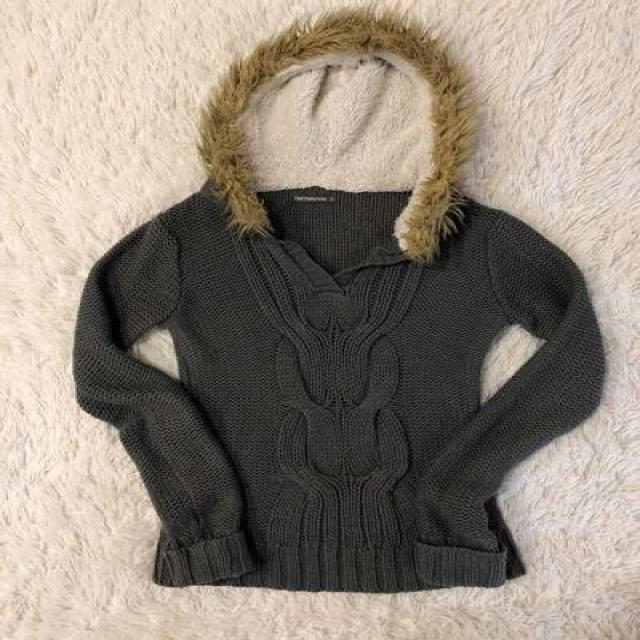Clothes -Biodegradable-: (70, 21, 604, 590)
